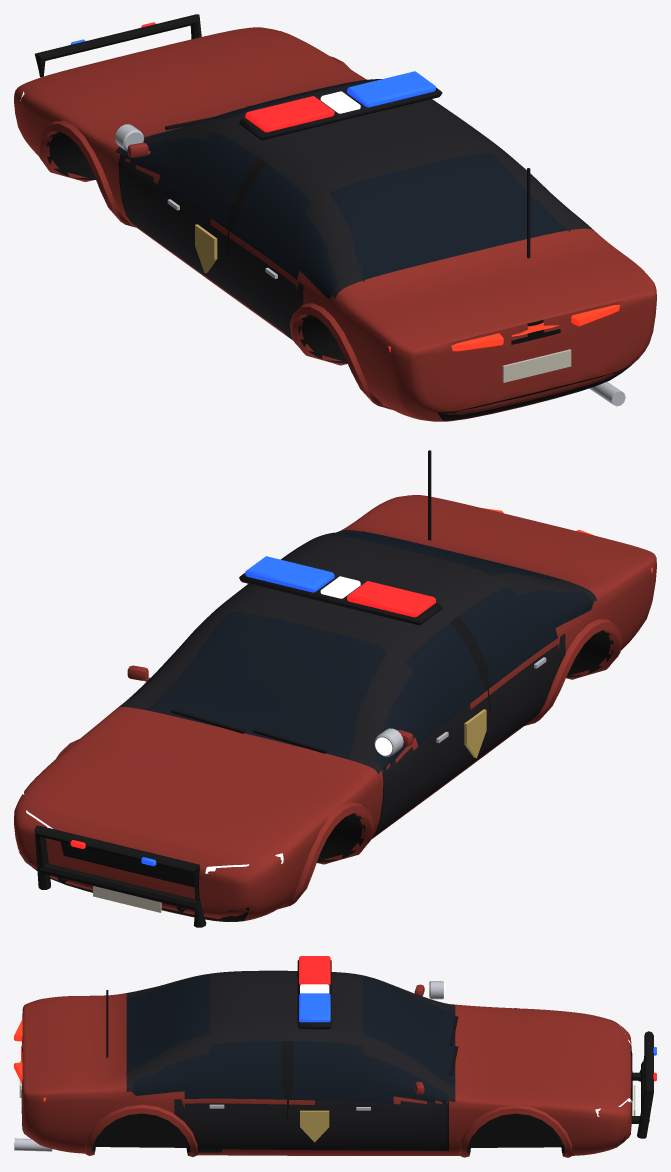
The model's file is car_coroner.glb.
3 renders of one model, top to bottom at view 1: azimuth 30°, elevation 25°; view 2: azimuth 150°, elevation 25°; view 3: azimuth 270°, elevation 25°, orthographic. The views are drawn at different scales.
Parts seen in each view (by area): view 1: body, parts, lips, strip5; view 2: body, parts, lips, strip0; view 3: body, parts, lips.
Part boxes in pixels (left/top/right/bottom): body: left=14, top=27, right=656, bottom=421; parts: left=34, top=14, right=625, bottom=406; lips: left=37, top=56, right=393, bottom=410; strip5: left=437, top=365, right=631, bottom=420; body: left=14, top=495, right=656, bottom=921; parts: left=34, top=450, right=652, bottom=927; lips: left=56, top=619, right=622, bottom=909; strip0: left=60, top=842, right=199, bottom=887; body: left=22, top=970, right=631, bottom=1155; parts: left=14, top=956, right=656, bottom=1151; lips: left=84, top=1008, right=573, bottom=1157.
Size of the model in its own units: 2.01 by 1.41 by 5.27.
